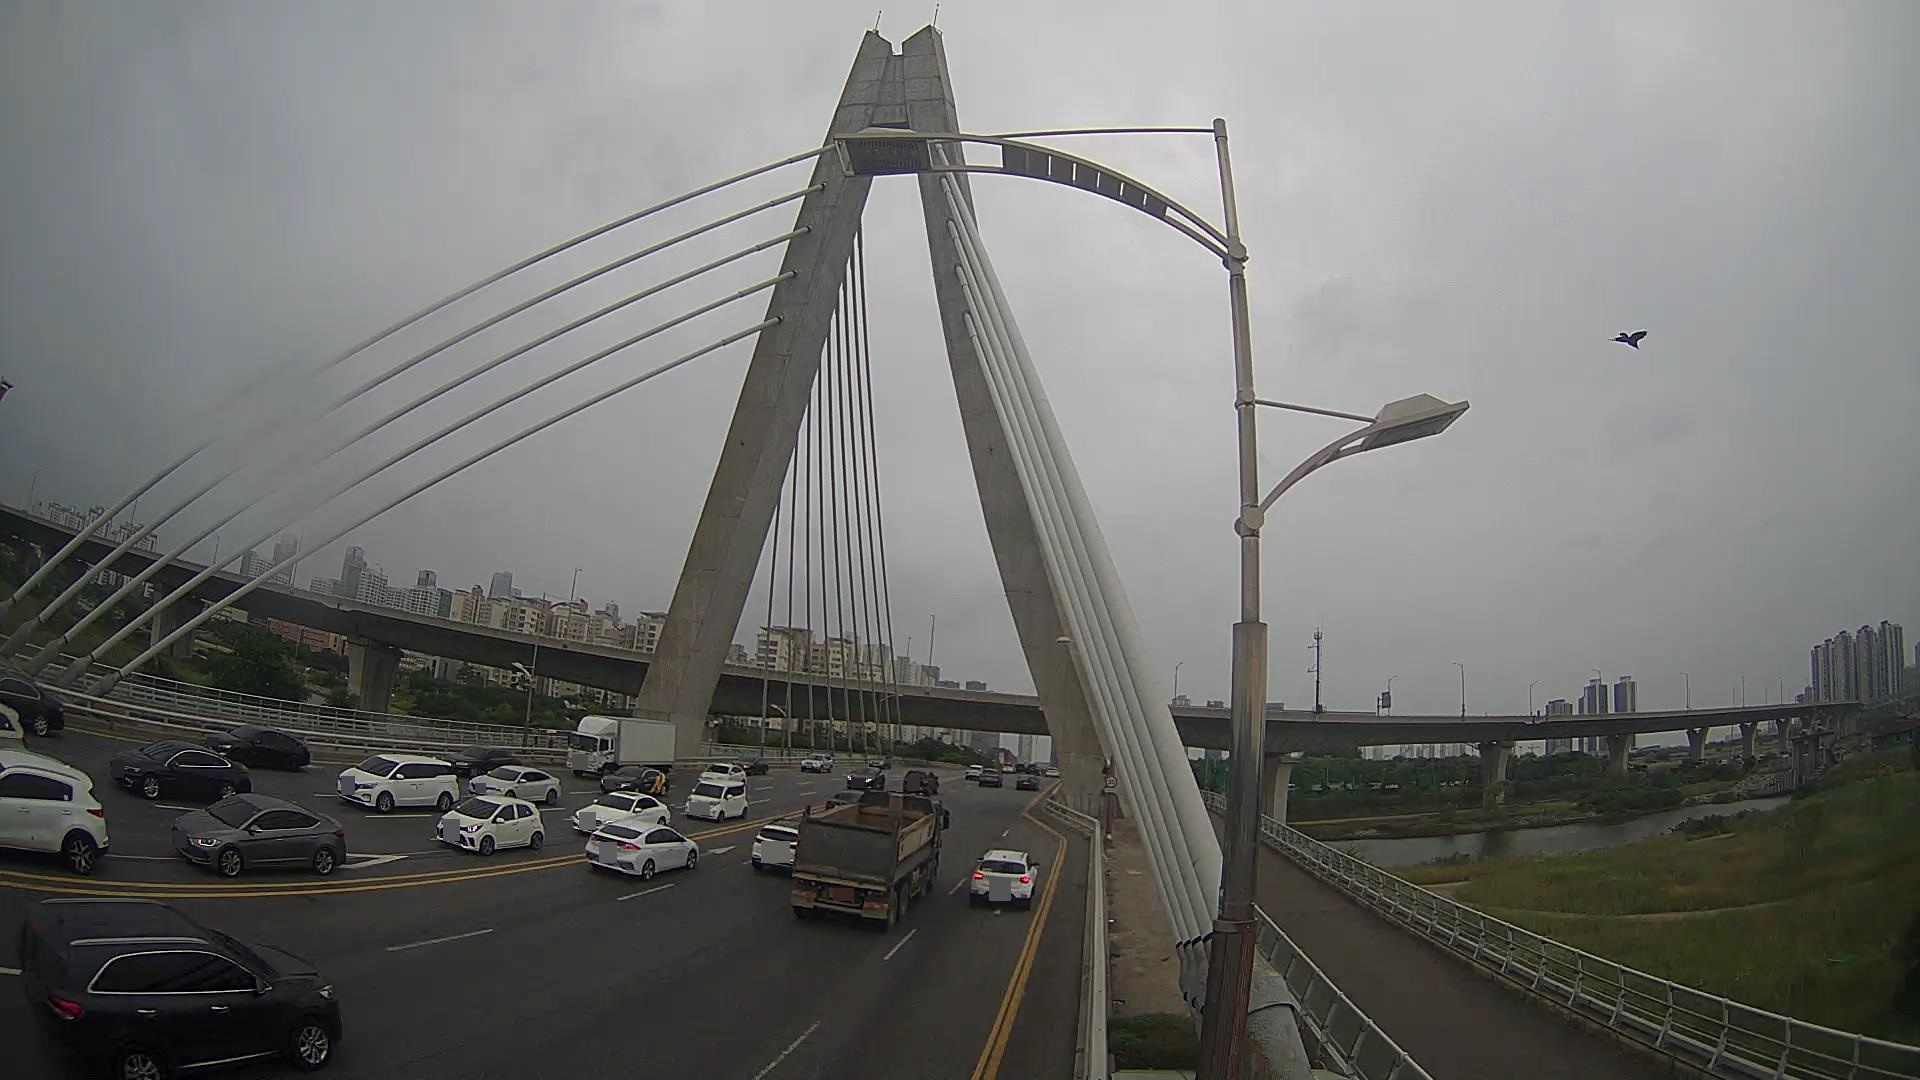정상차량: (790, 787, 951, 934)
